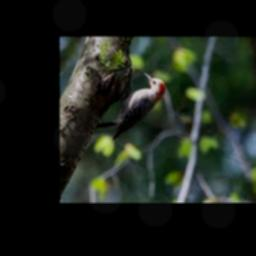Woodpecker: (95, 71, 165, 139)
